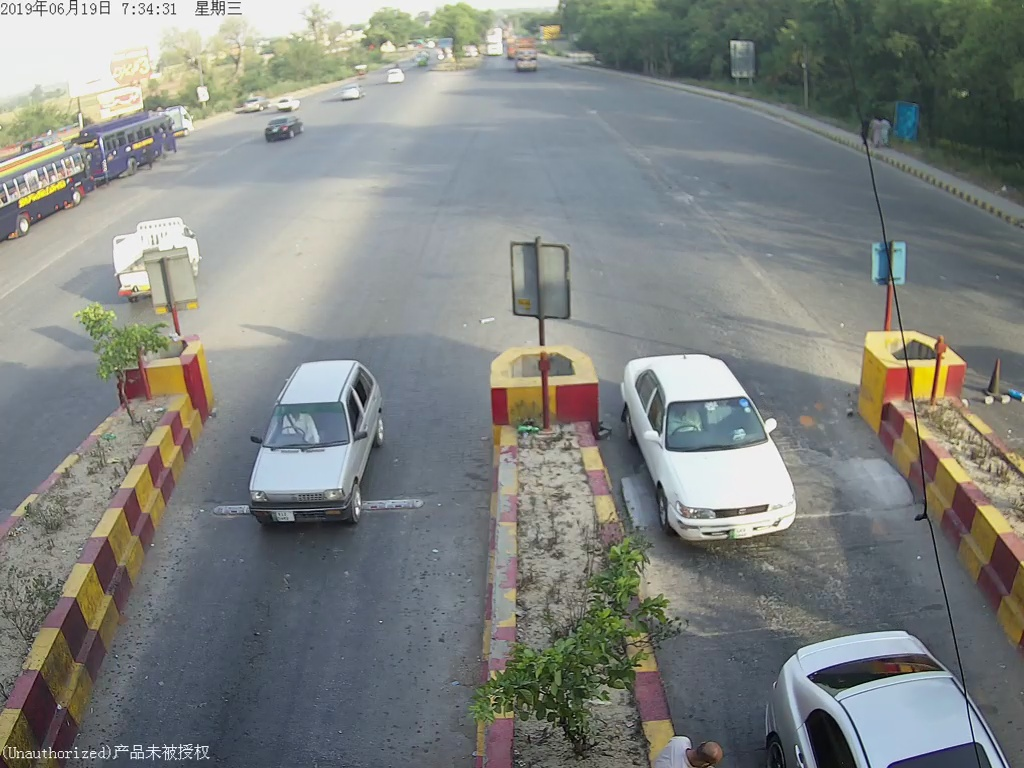Cat-1: (619, 341, 821, 552), (248, 361, 385, 527)
